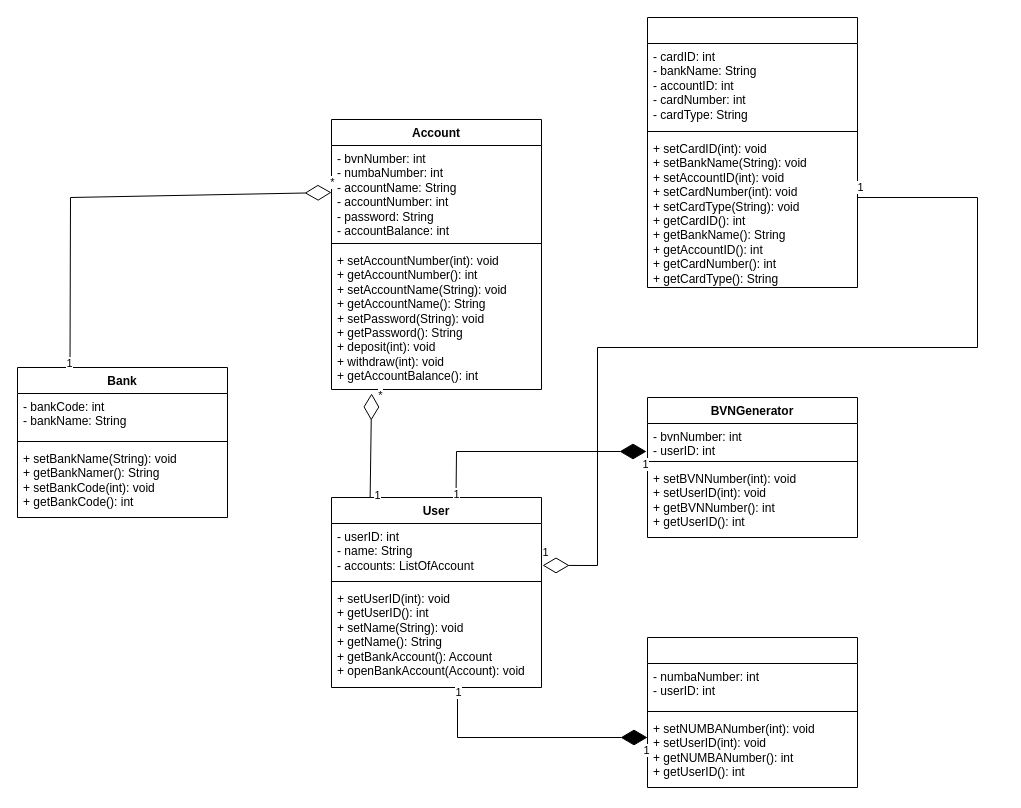
Some shapes in this 1021 by 808 pixel diagram are drawn without their labels. The box of each missing label's shape, as (x1, y1, x2, y2) in pixels:
CreditCard: (646, 16, 858, 288)
NUMBAGenerator: (646, 636, 858, 788)
